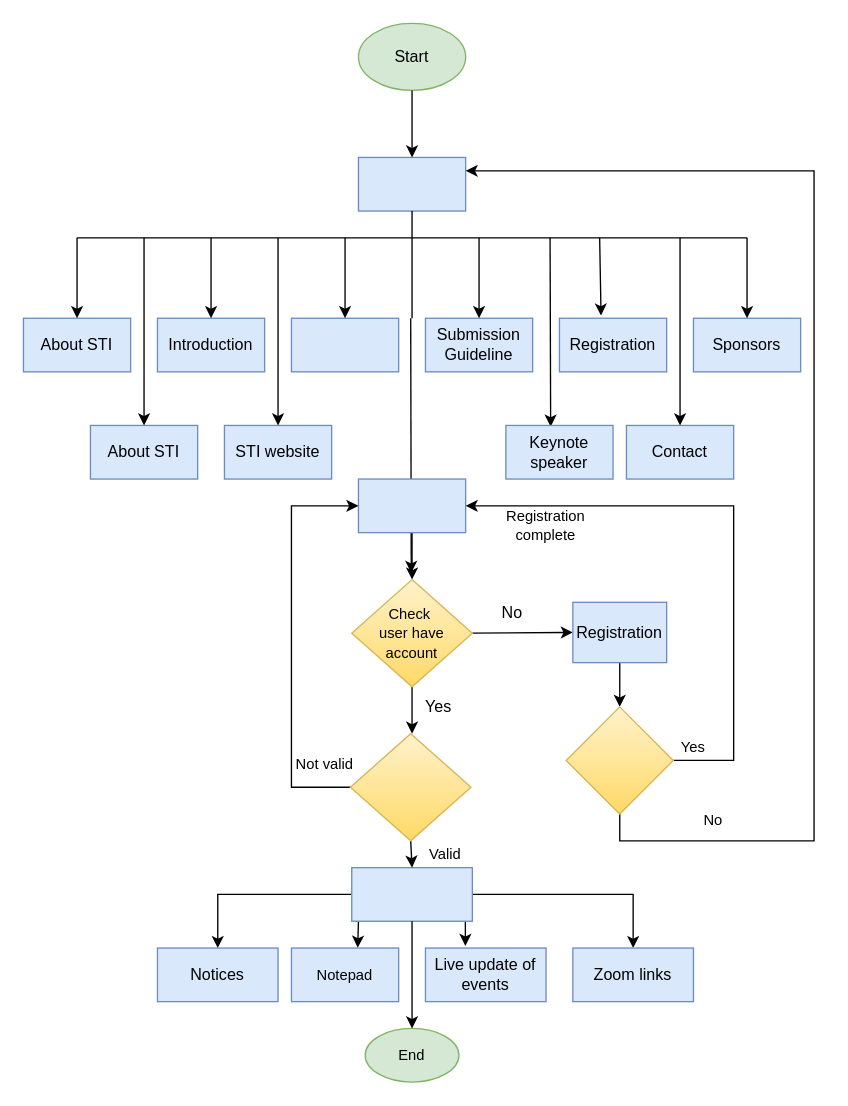
Image size: 848x1106. Some labels were removed from this diagram. Each missing label, with the centre of its shape:
"Attendees home" belongs at pixel 411 893.
"Check payment complete" belongs at pixel 619 760.
"Check user & pass validity" belongs at pixel 410 786.
"Committee" belongs at pixel 344 344.
"Home activity" belongs at pixel 411 183.
"Login" belongs at pixel 411 505.
